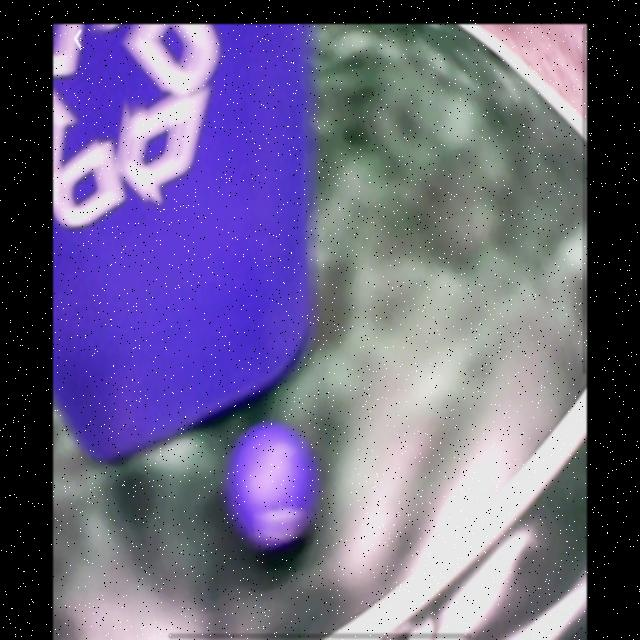ball: (227, 423, 318, 554)
